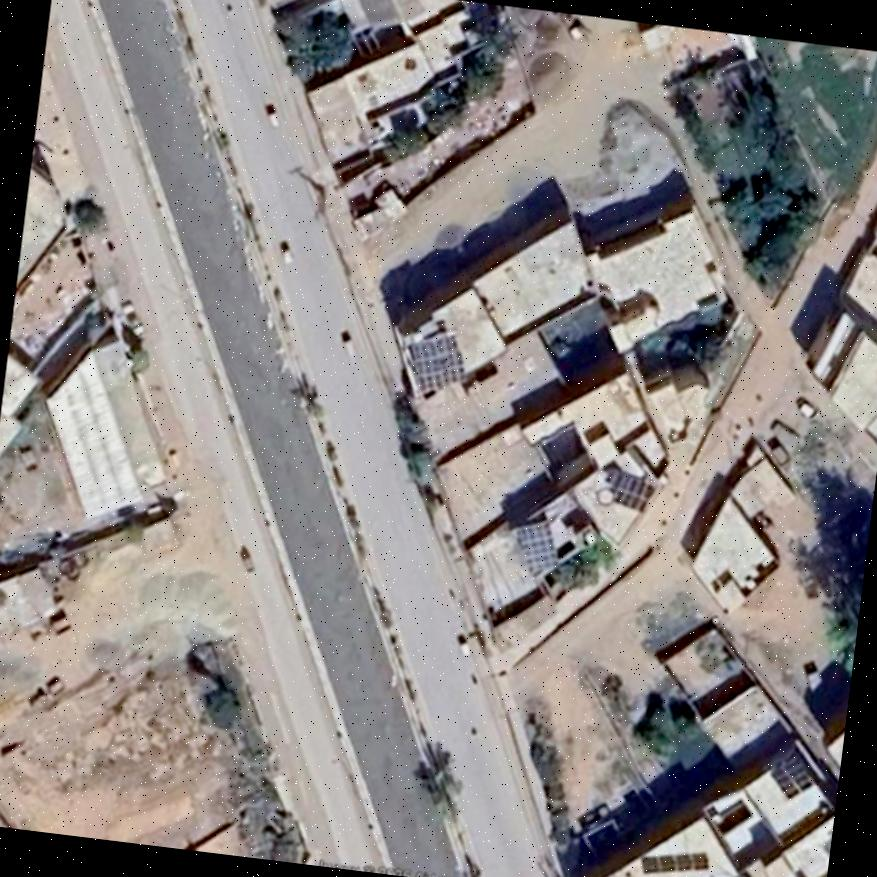Solarpanel: (405, 333, 464, 390), (514, 519, 557, 574), (770, 753, 813, 799), (613, 473, 653, 510), (640, 853, 709, 871)
